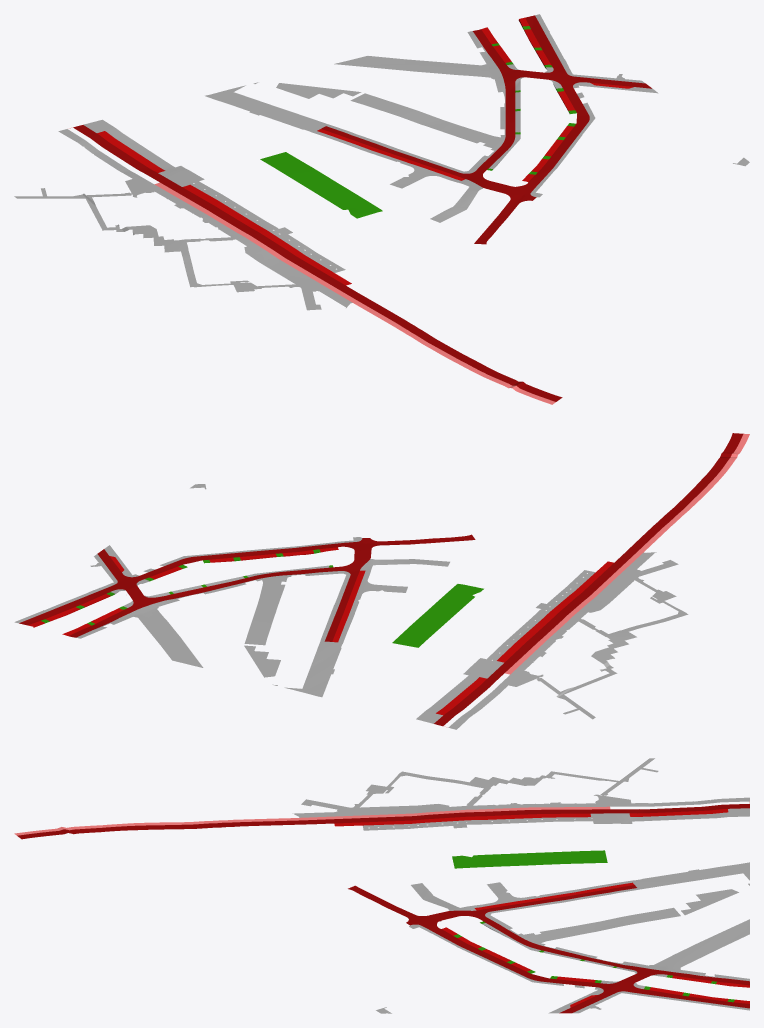
File: tile-67320-51835-16 gebieden.fbx
3 renders of one model, top to bottom at view 1: azimuth 30°, elevation 25°; view 2: azimuth 150°, elevation 25°; view 3: azimuth 270°, elevation 25°, orthographic. The views are drawn at different scales.
Parts seen in each view (by area): view 1: Mesh (×5); view 2: Mesh (×5); view 3: Mesh (×5).
Part boxes in pixels (x1,y1,x2,y2): Mesh (×5): [14, 14, 749, 404]; Mesh (×5): [14, 433, 749, 729]; Mesh (×5): [14, 758, 749, 1013].
Size of the model in its own units: 187 by 2.48 by 225.
